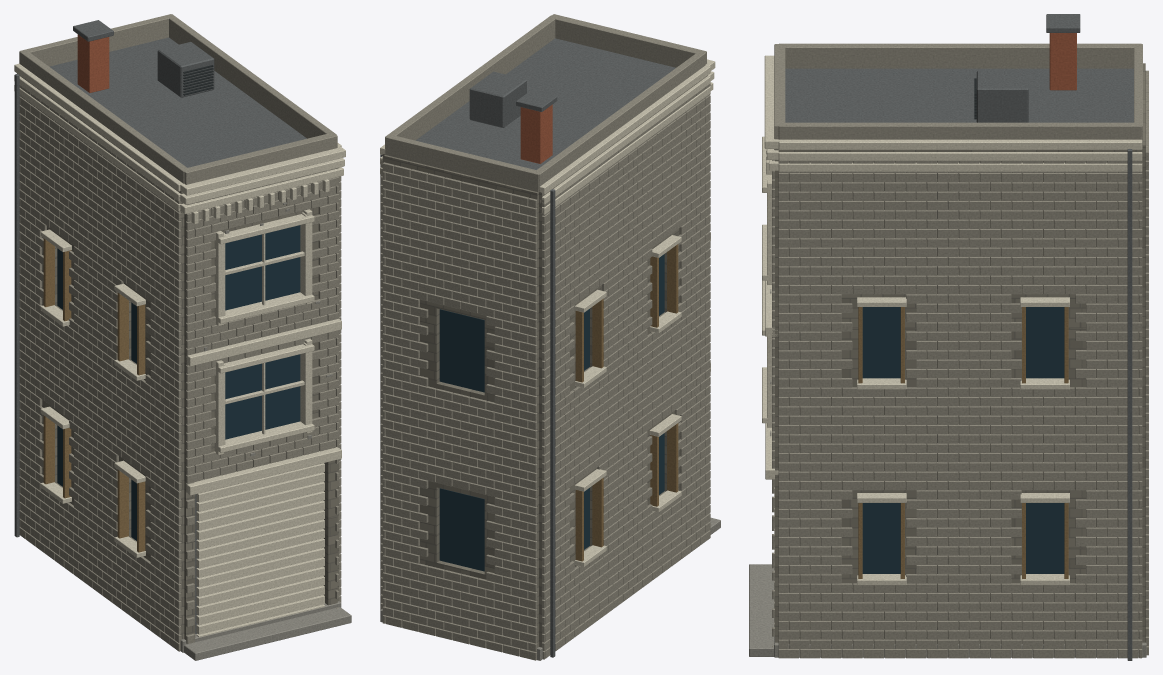
Rendered from VICT32_lod0.glb.
3 renders of one model, left to right at view 1: azimuth 30°, elevation 25°; view 2: azimuth 150°, elevation 25°; view 3: azimuth 270°, elevation 25°, orthographic. The views are drawn at different scales.
Parts seen in each view (by area): view 1: VICT32_LOD0; view 2: VICT32_LOD0; view 3: VICT32_LOD0.
Part boxes in pixels (bbox=[...]): VICT32_LOD0: bbox=[14, 14, 351, 660]; VICT32_LOD0: bbox=[380, 14, 720, 660]; VICT32_LOD0: bbox=[749, 14, 1148, 660].
Bounding box in the file's own units: 3.71 × 10.45 × 6.6.
12 materials, 10 textured.
